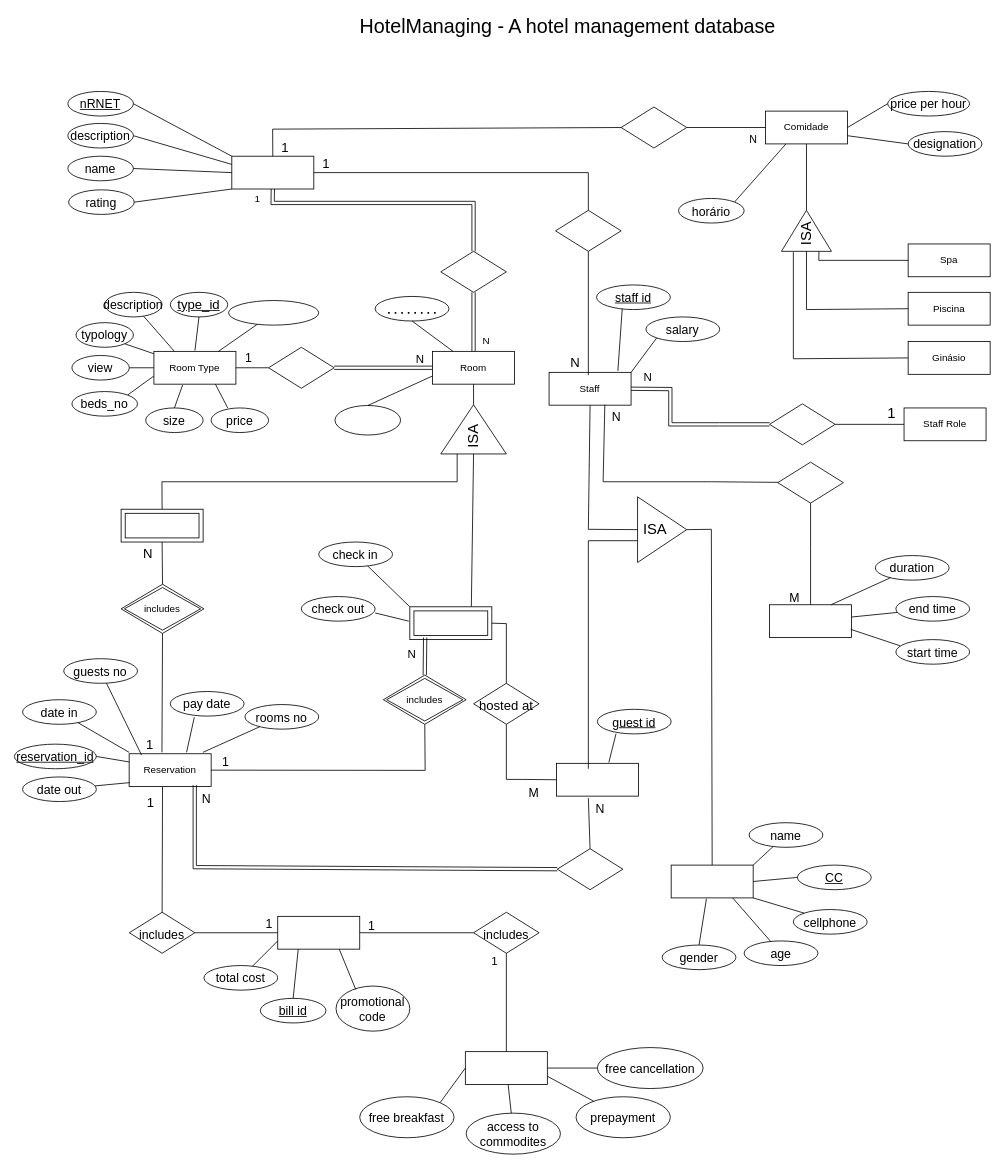
Image size: 1005x1169. Some labels were removed from this diagram. The shapes that lost their labels are listed below. From the top down, each one's centre as x and y in pixels, then its label:
At (653,127): "offers".
At (272,172): "Hotel".
At (588,230): "employs".
At (473,271): "contains".
At (273,312): "max_capacity".
At (411,308): "room no".
At (301,367): "has".
At (367,420): "room id".
At (802,424): "with".
At (810,482): "works in".
At (161,525): "Reserved Room".
At (450,623): "Occupied Room".
At (810,621): "Shift".
At (597,779): "Guest".
At (589,869): "sets".
At (711,881): "Person".
At (318,932): "Bill".
At (506,1067): "Package Type".
